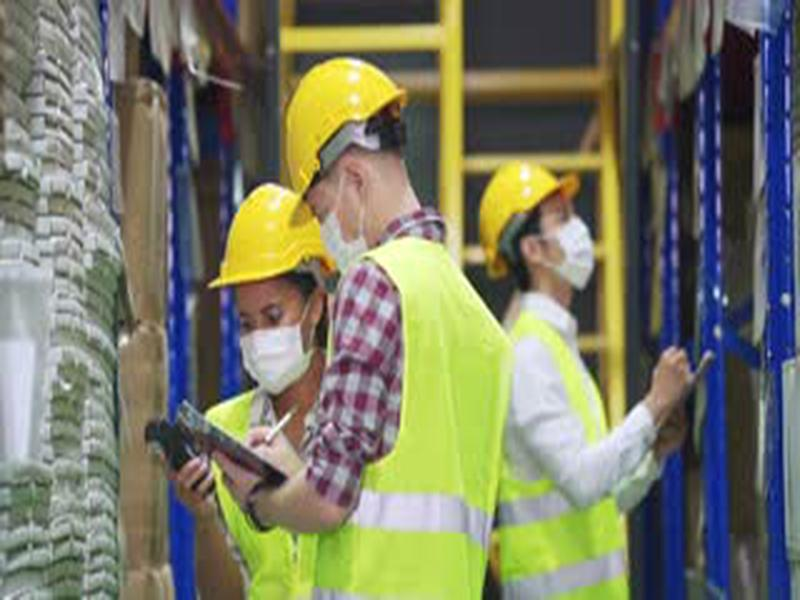hard-hat: (280, 55, 413, 232), (205, 179, 343, 299), (477, 157, 583, 283)
